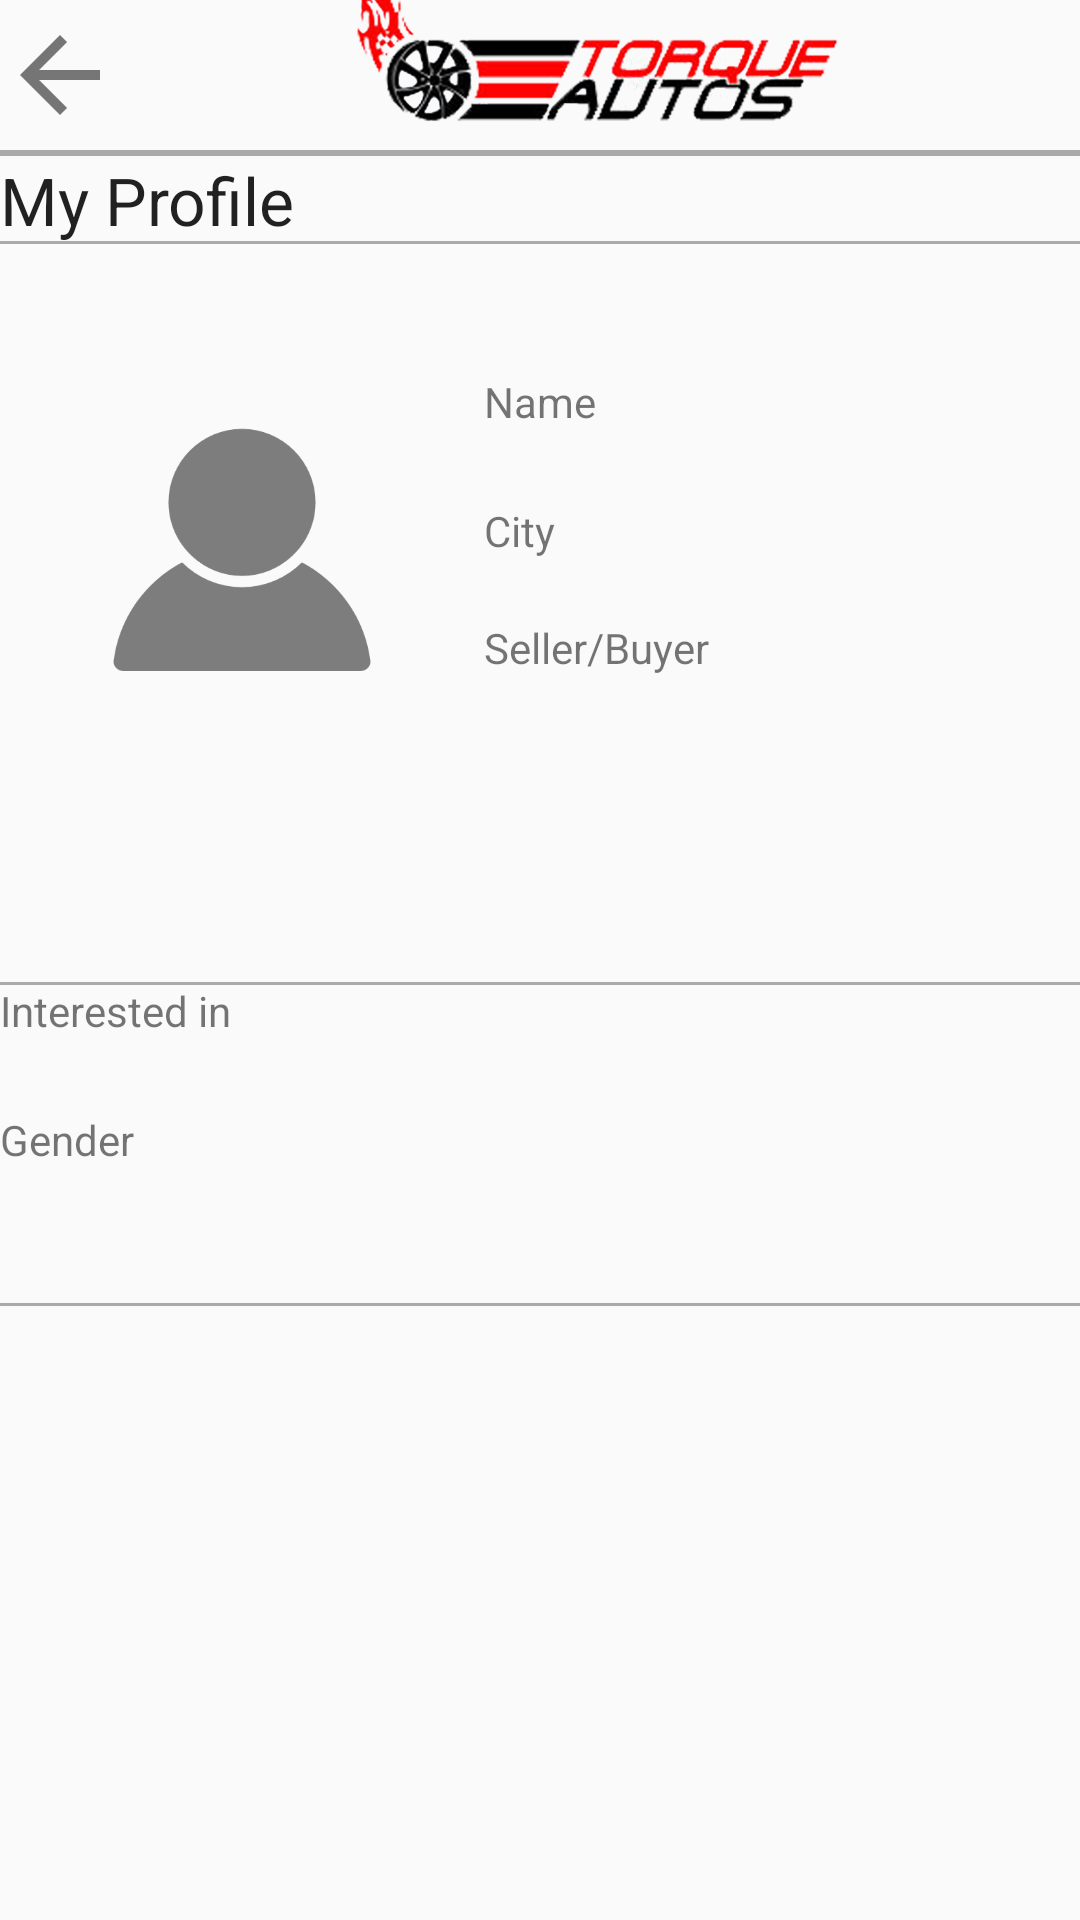

Icons on this 1080x1920 Android screen, each with its box as (x1, y1, x2, y2):
arrow: (20, 35, 100, 115)
profilepic: (113, 428, 371, 671)
